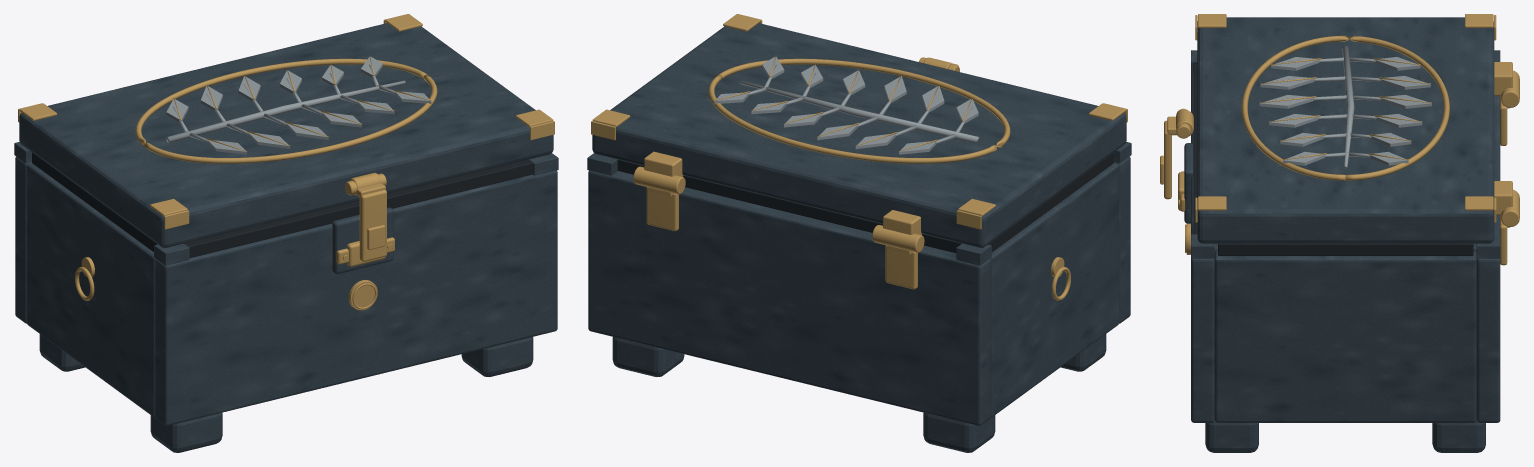
Rendered from haiti.glb.
3 renders of one model, left to right at view 1: azimuth 30°, elevation 25°; view 2: azimuth 150°, elevation 25°; view 3: azimuth 270°, elevation 25°, orthographic. The views are drawn at different scales.
Visible parts, largest first — view 1: Steel / body long, Lid / polished slab, Steel / body side, Seam / long, Garden / oval border, Steel foot, Steel / body long.001, Steel foot.002, Garden / central stem, Latch / lifting hasp, Steel / clasp seat, Seam / side (+3 smaller); view 2: Steel / body long.001, Lid / polished slab, Steel / body side, Garden / oval border, Seam / long.001, Steel foot.001, Steel / body long, Steel foot.003, Garden / central stem, Seam / side, Hinge / fixed mount, Hinge / fixed mount.001 (+7 smaller); view 3: Lid / polished slab, Steel / body side.001, Steel / body long.001, Steel / body long, Garden / oval border, Seam / side.001, Steel foot.003, Steel foot.002, Garden / central stem, Seam / long, Steel / clasp seat, Hinge / moving leaf (+19 smaller).
Part boxes in pixels (x1=…): Steel / body long: x1=155, y1=170, x2=557, y2=425; Lid / polished slab: x1=19, y1=23, x2=553, y2=247; Steel / body side: x1=27, y1=163, x2=155, y2=417; Seam / long: x1=184, y1=159, x2=533, y2=257; Garden / oval border: x1=135, y1=58, x2=437, y2=163; Steel foot: x1=150, y1=412, x2=222, y2=452; Steel / body long.001: x1=15, y1=156, x2=31, y2=323; Steel foot.002: x1=461, y1=337, x2=533, y2=376; Garden / central stem: x1=166, y1=80, x2=405, y2=142; Latch / lifting hasp: x1=359, y1=190, x2=386, y2=261; Steel / clasp seat: x1=332, y1=207, x2=393, y2=274; Seam / side: x1=32, y1=152, x2=157, y2=251; Steel / body long.001: x1=588, y1=170, x2=990, y2=425; Lid / polished slab: x1=592, y1=23, x2=1126, y2=247; Steel / body side: x1=990, y1=163, x2=1118, y2=417; Garden / oval border: x1=708, y1=58, x2=1010, y2=163; Seam / long.001: x1=617, y1=159, x2=961, y2=253; Steel foot.001: x1=923, y1=412, x2=995, y2=452; Steel / body long: x1=1114, y1=156, x2=1130, y2=323; Steel foot.003: x1=612, y1=337, x2=684, y2=376; Garden / central stem: x1=740, y1=80, x2=979, y2=142; Seam / side: x1=988, y1=152, x2=1113, y2=251; Hinge / fixed mount: x1=885, y1=245, x2=917, y2=289; Hinge / fixed mount.001: x1=646, y1=187, x2=678, y2=230; Lid / polished slab: x1=1197, y1=17, x2=1494, y2=243; Steel / body side.001: x1=1214, y1=251, x2=1476, y2=422; Steel / body long.001: x1=1476, y1=95, x2=1500, y2=422; Steel / body long: x1=1191, y1=74, x2=1214, y2=422; Garden / oval border: x1=1241, y1=35, x2=1449, y2=180; Seam / side.001: x1=1218, y1=243, x2=1473, y2=255; Steel foot.003: x1=1432, y1=420, x2=1485, y2=452; Steel foot.002: x1=1205, y1=420, x2=1258, y2=452; Garden / central stem: x1=1342, y1=46, x2=1354, y2=168; Seam / long: x1=1193, y1=62, x2=1197, y2=234; Steel / clasp seat: x1=1184, y1=143, x2=1193, y2=223; Hinge / moving leaf: x1=1494, y1=62, x2=1512, y2=95.
Bounding box in the file's own units: 3.79 × 2.32 × 2.88.
Materials: 4 (1 with a texture image).
